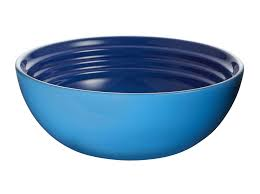bowl: (11, 33, 246, 163)
